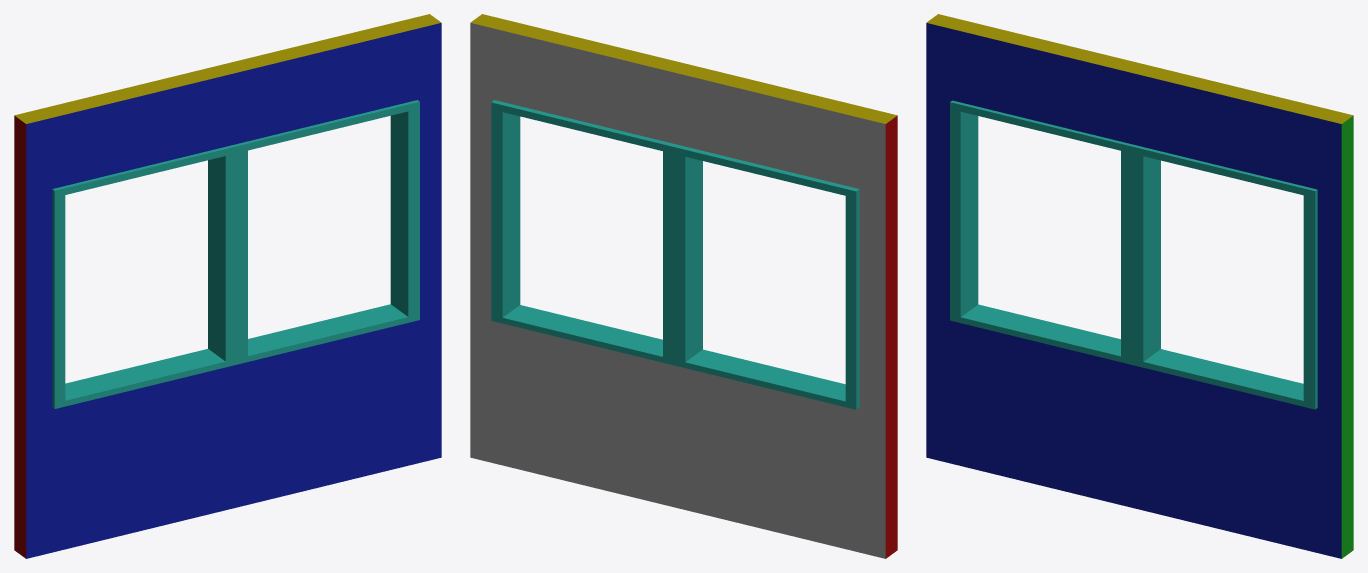
Rendered from Wall_Window_05b.fbx.
3 renders of one model, left to right at view 1: azimuth 30°, elevation 25°; view 2: azimuth 150°, elevation 25°; view 3: azimuth 330°, elevation 25°, orthographic.
Visible parts, largest first — view 1: Wall_Window_05b; view 2: Wall_Window_05b; view 3: Wall_Window_05b.
Boxes of the visible parts, <box> form: Wall_Window_05b: <box>14,14,441,558</box>; Wall_Window_05b: <box>470,14,897,558</box>; Wall_Window_05b: <box>926,14,1353,558</box>.
Size of the model in its own units: 3 by 0.22 by 3.
